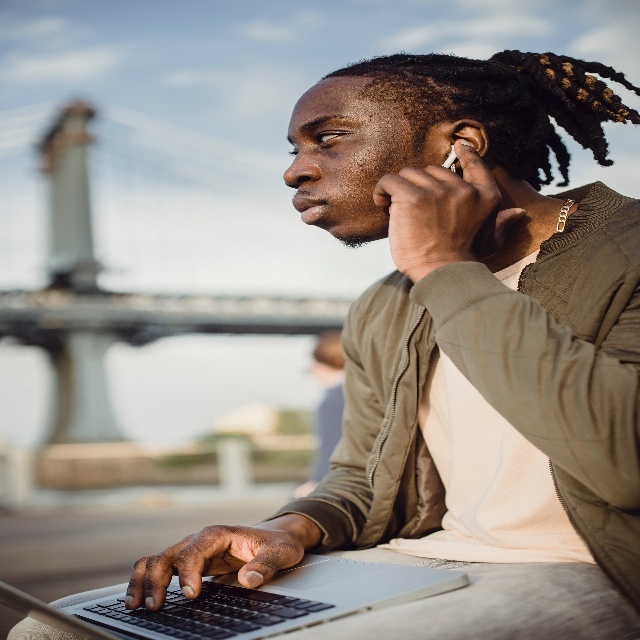Sin_guantes: (373, 141, 524, 249), (125, 518, 306, 605)
